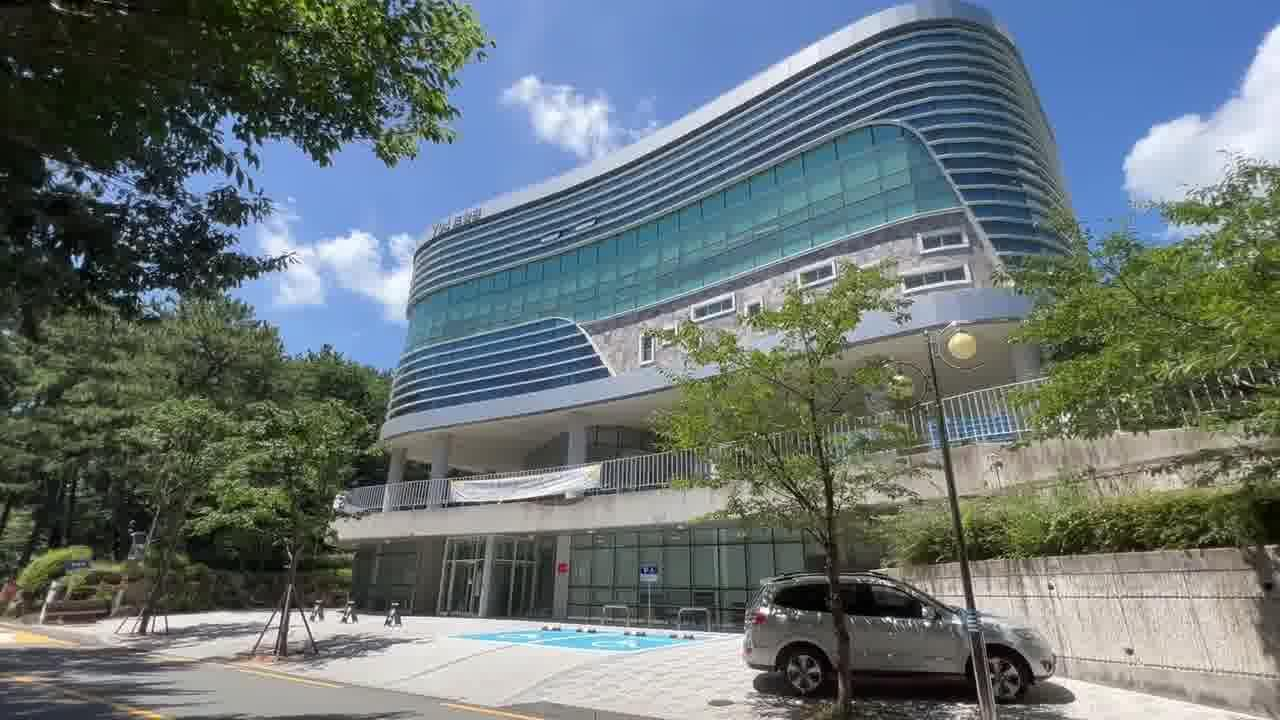building: (374, 21, 1081, 363)
